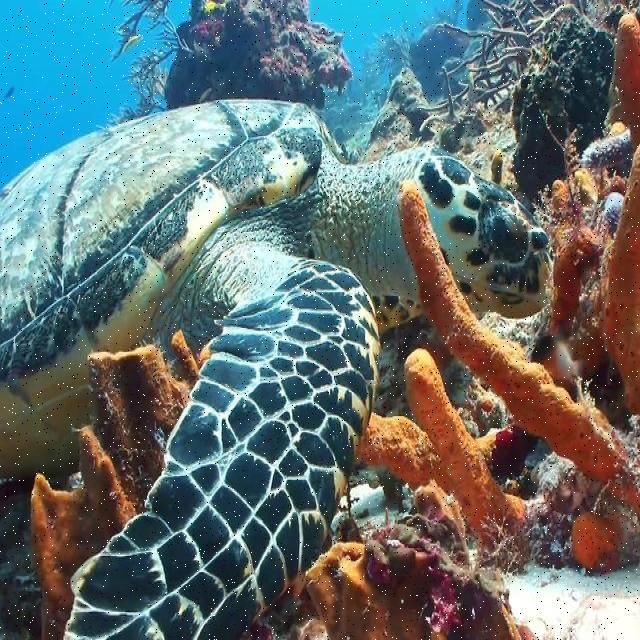fish: (0, 97, 548, 639)
reefs: (399, 143, 638, 576), (357, 347, 528, 558)
